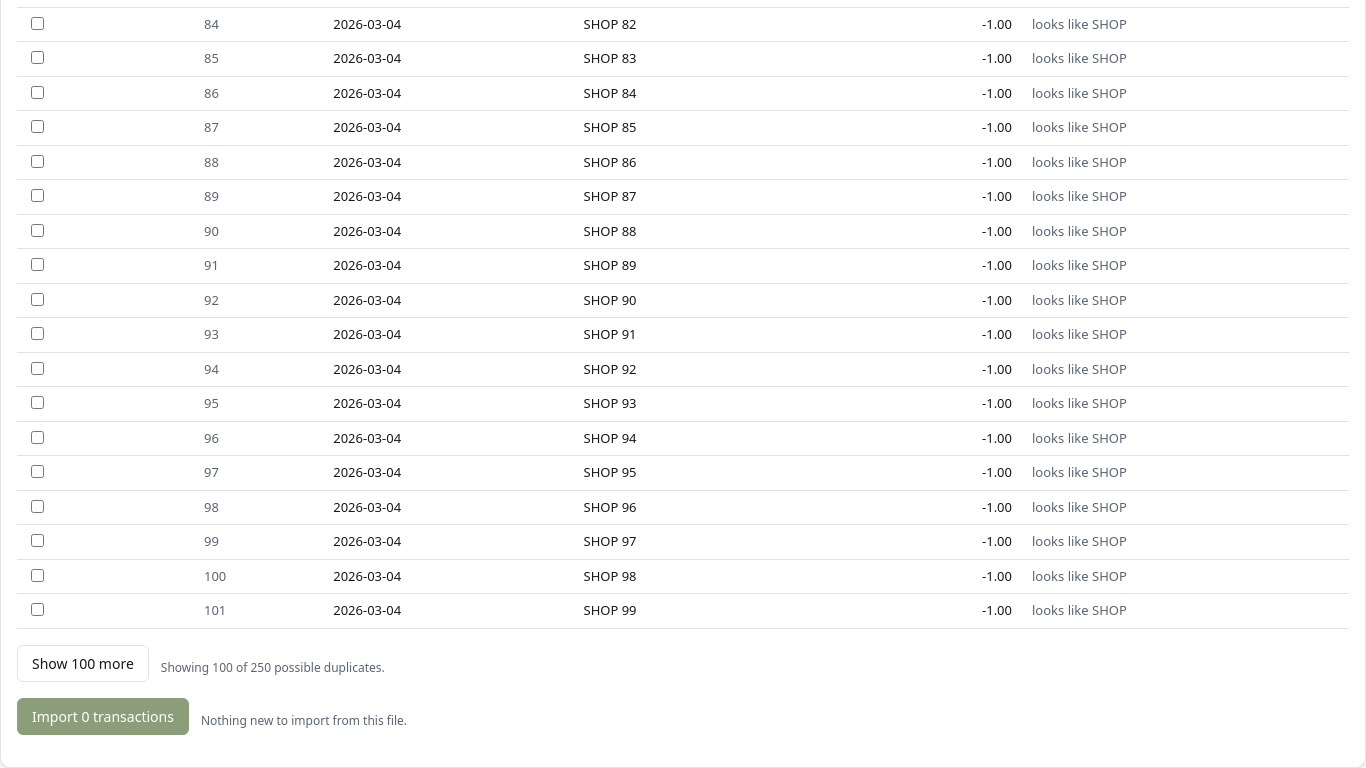
Test case: ReviewStep flagged list › reveals another page at a time
(page scrolled)
Click the button "Show 100 more" at coordinates (83, 663), box [17,644,149,682]
(page scrolled)
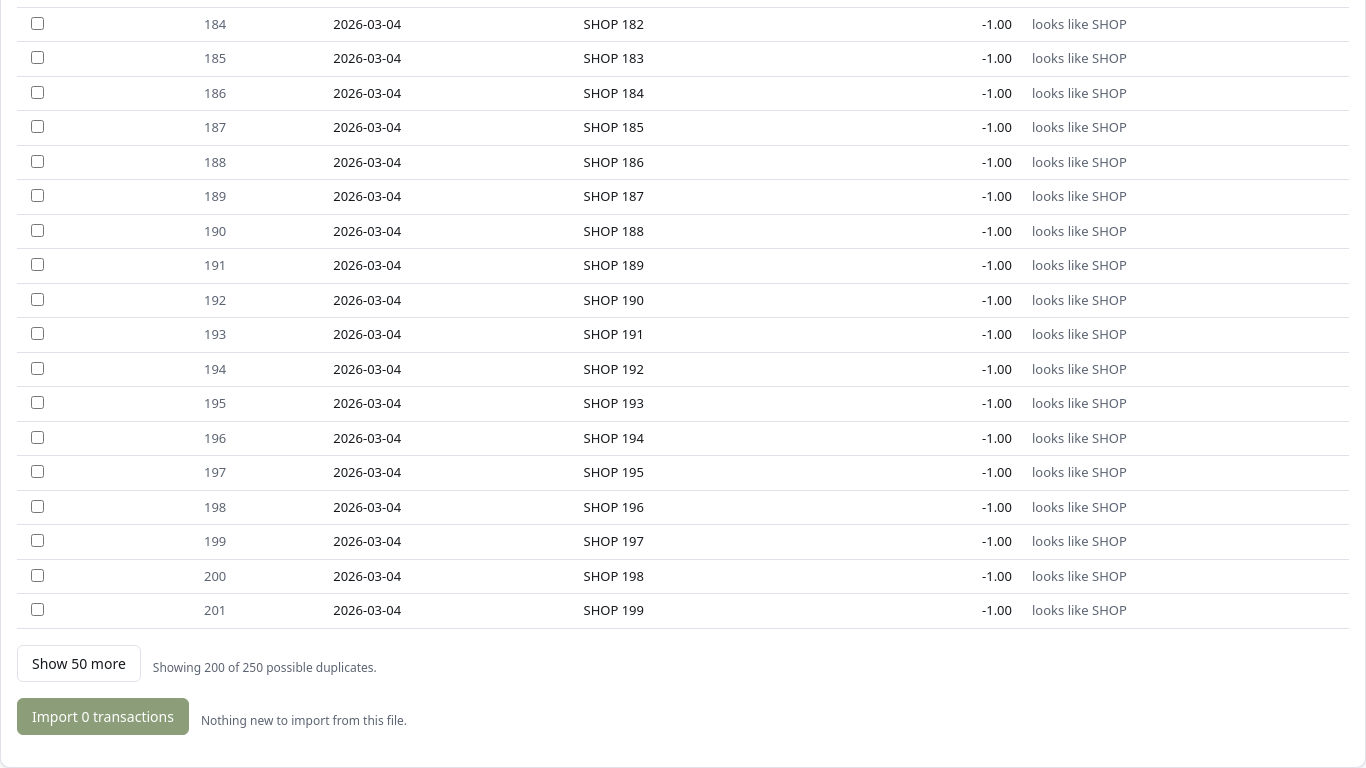
Click the button "Show 50 more" at coordinates (79, 663), box [17,644,141,682]
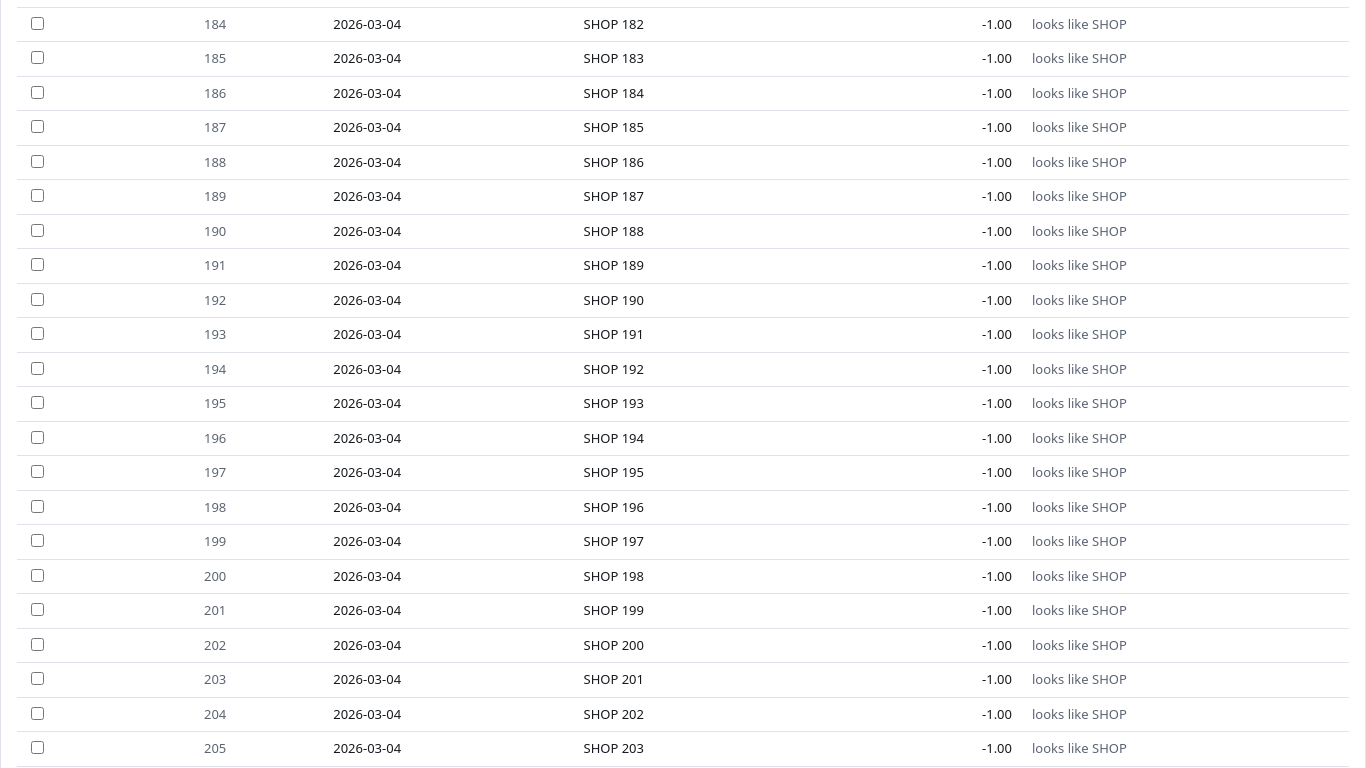
Result: the button "Show 50 more" is gone
